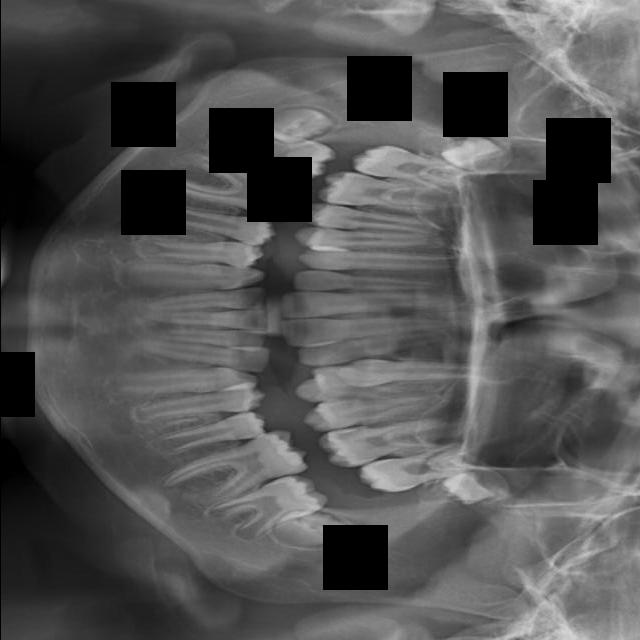3M ESPE Implant: (437, 122, 512, 184)
AGS Medikal Implant: (355, 360, 356, 360)
AMerOss Implant: (310, 358, 491, 379)
Amalgam filling: (294, 379, 446, 404)
Anthogyr Implant: (348, 427, 349, 427)
Bicon Implant: (316, 412, 455, 473)
BioHorizons Implant: (354, 439, 488, 500)
BioLife Implant: (438, 471, 512, 509)
Biomet 3i Implant: (272, 505, 350, 561)
Blue Sky Bio Implant: (205, 463, 332, 554)
Camlog Implant: (155, 423, 313, 520)
Caries: (445, 160, 446, 160)
Composite filling: (144, 408, 268, 458)
Cowellmedi Implant: (207, 392, 208, 393)
Crown: (107, 363, 258, 399)
DENTSPLY Implant: (137, 341, 271, 373)
Dentatus Implant: (148, 326, 268, 347)
Dentis Implant: (141, 309, 268, 330)
Dentium Implant: (228, 289, 229, 290)
Euroteknika Implant: (123, 262, 265, 290)
Filling: (137, 232, 265, 267)
Frontier Implant: (150, 201, 279, 246)
Hiossen Implant: (369, 176, 370, 176)
Implant: (206, 104, 340, 190)
Implant Direct: (154, 144, 305, 224)
Keystone Dental Implant: (262, 91, 336, 145)
MIS Implant: (298, 199, 440, 244)
Mandible: (292, 226, 443, 250)
Maxilla: (296, 249, 481, 272)
Megagen Implant: (291, 268, 447, 292)
Neodent Implant: (279, 286, 458, 318)
Neoss Implant: (354, 337, 355, 338)
